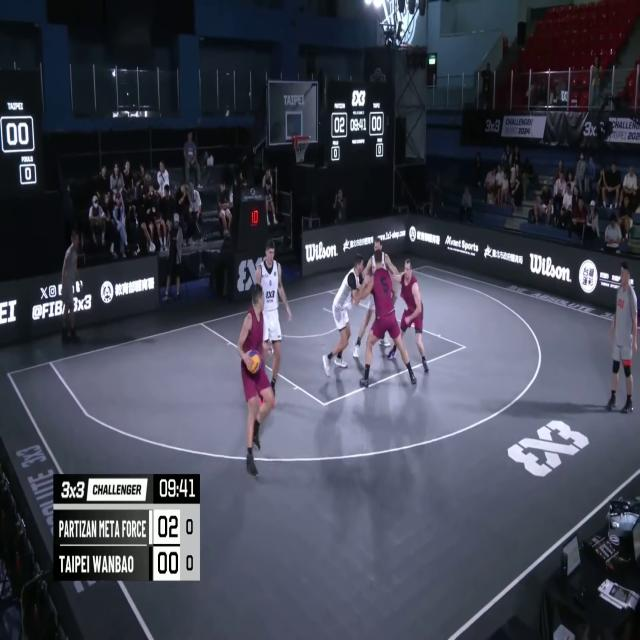ball: (245, 350, 261, 372)
hoop: (292, 133, 311, 164)
player: (230, 284, 275, 476), (358, 251, 416, 394), (257, 242, 292, 404), (323, 255, 370, 374), (356, 234, 398, 358), (387, 257, 429, 376)
